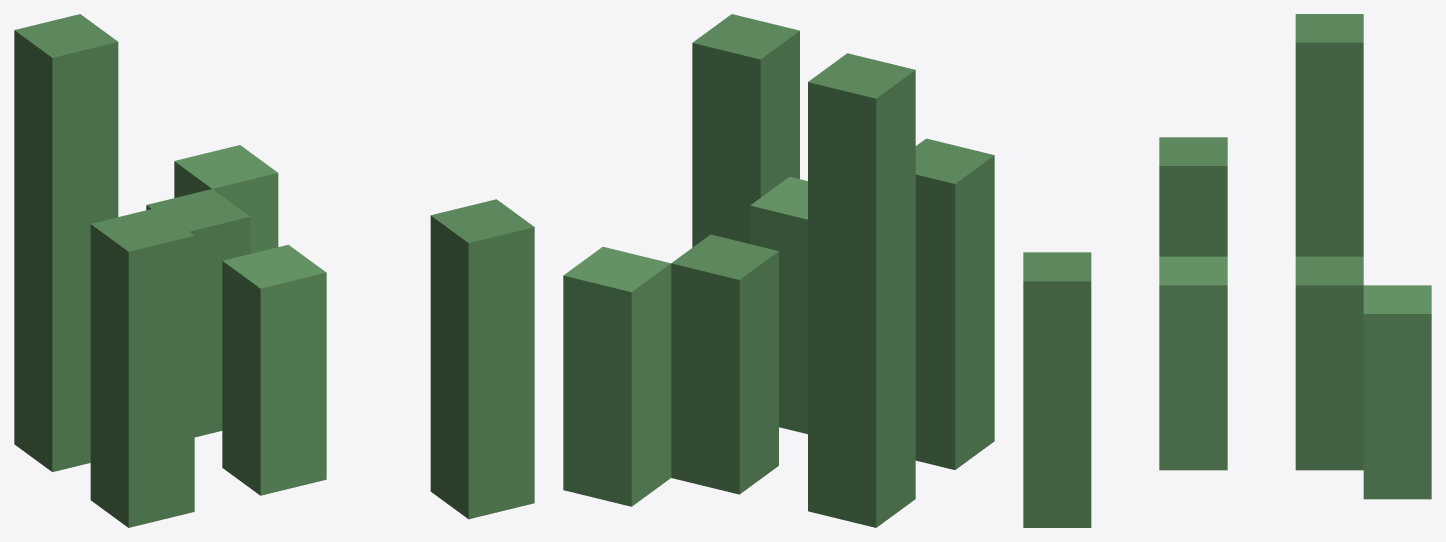
Rendered from helecho_02.glb.
3 views of the same model, side by side, from view 1: azimuth 30°, elevation 25°; view 2: azimuth 150°, elevation 25°; view 3: azimuth 270°, elevation 25° (orthographic). The views are drawn at different scales.
Parts seen in each view (by area): view 1: helecho_02; view 2: helecho_02; view 3: helecho_02.
Part boxes in pixels (x1=…): helecho_02: x1=14, y1=14, x2=534, y2=527; helecho_02: x1=563, y1=14, x2=994, y2=527; helecho_02: x1=1023, y1=14, x2=1431, y2=527.
Size of the model in its own units: 0.5 by 0.6 by 0.6.
